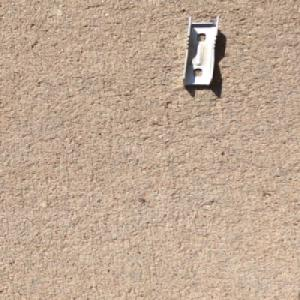ClampPart: (180, 13, 224, 89)
